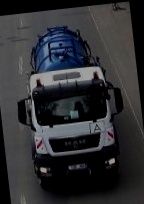truck: (8, 16, 133, 197)
